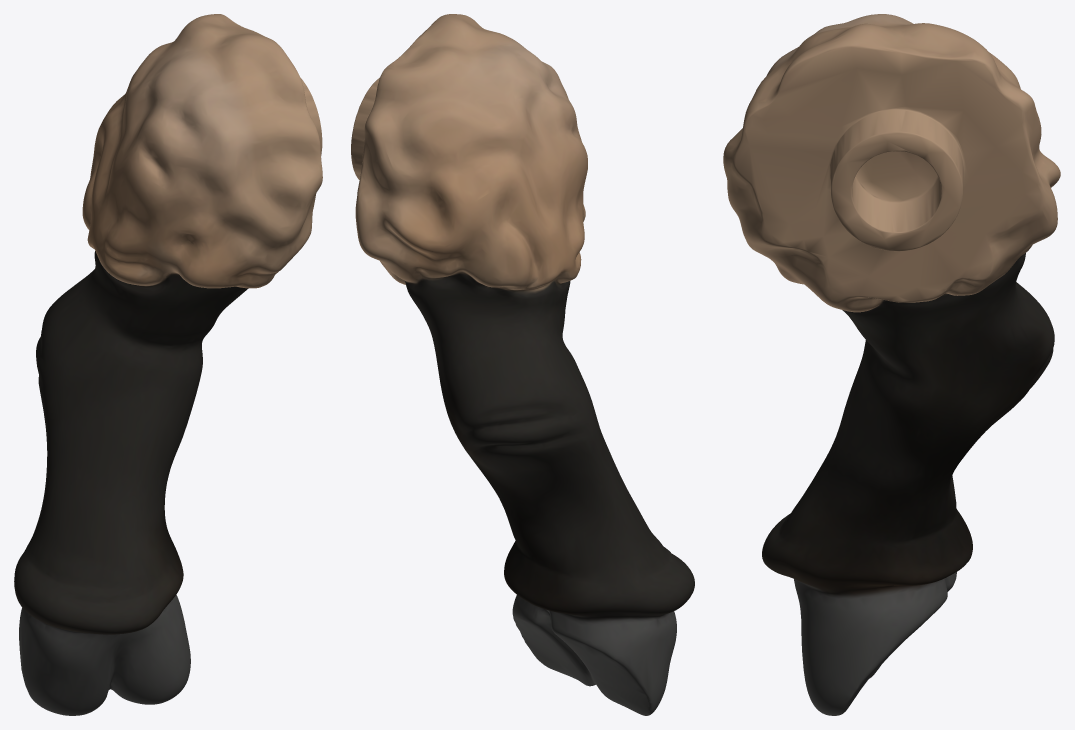
The model's file is Bras_Mouton_rg.glb.
3 views of the same model, side by side, from view 1: azimuth 30°, elevation 25°; view 2: azimuth 150°, elevation 25°; view 3: azimuth 270°, elevation 25° (orthographic). The views are drawn at different scales.
Parts seen in each view (by area): view 1: Bras_Mouton_rg; view 2: Bras_Mouton_rg; view 3: Bras_Mouton_rg.
Boxes of the visible parts, x1,y1,x2,y2 form: Bras_Mouton_rg: (14,14,322,715); Bras_Mouton_rg: (351,14,694,715); Bras_Mouton_rg: (723,14,1060,715).
Size of the model in its own units: 2.52 by 5.36 by 2.19.
